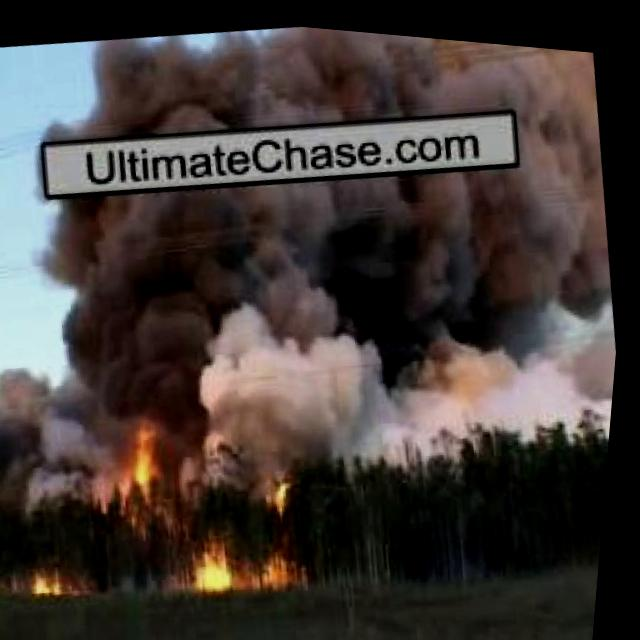helmet: (241, 461, 319, 583), (127, 410, 175, 497), (197, 518, 246, 591), (36, 560, 75, 597)
no_helmet: (16, 99, 634, 498), (50, 4, 600, 169)
